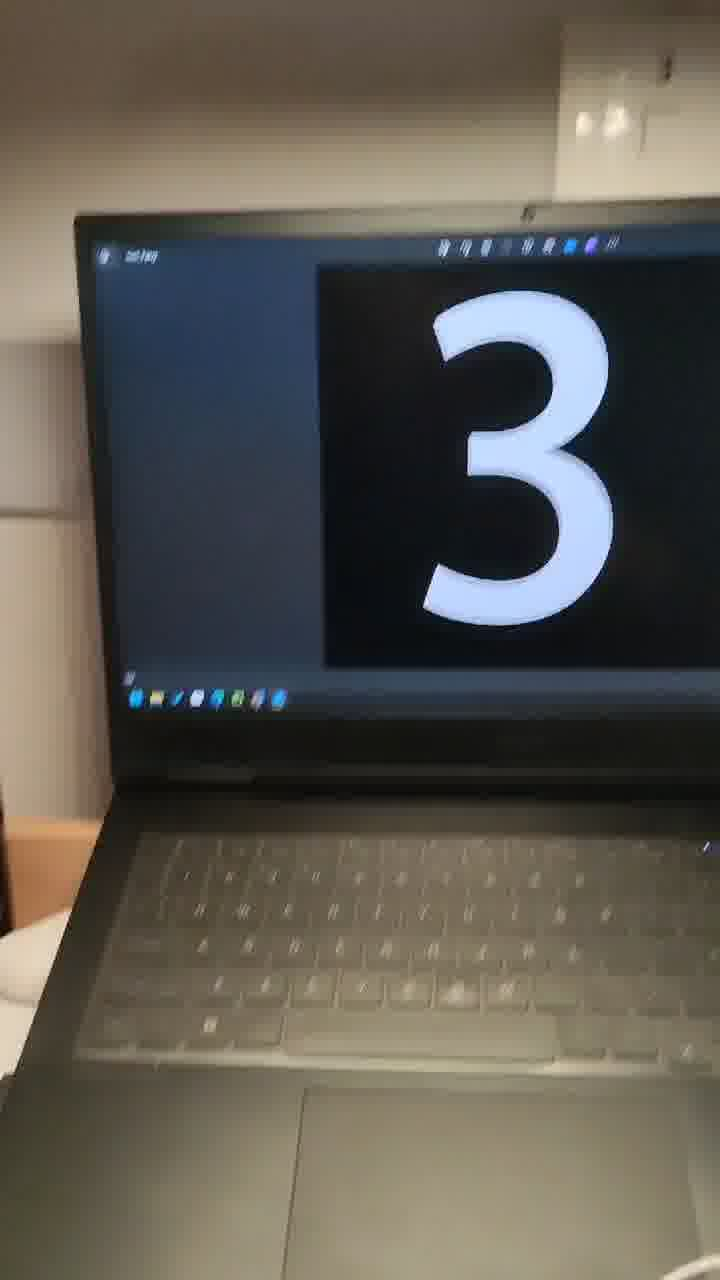three: (376, 254, 646, 662)
